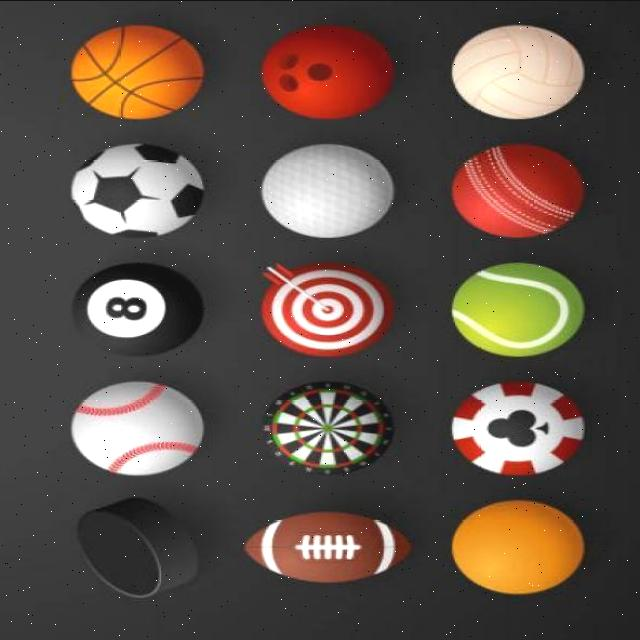ping-pong-ball: (450, 502, 580, 594)
